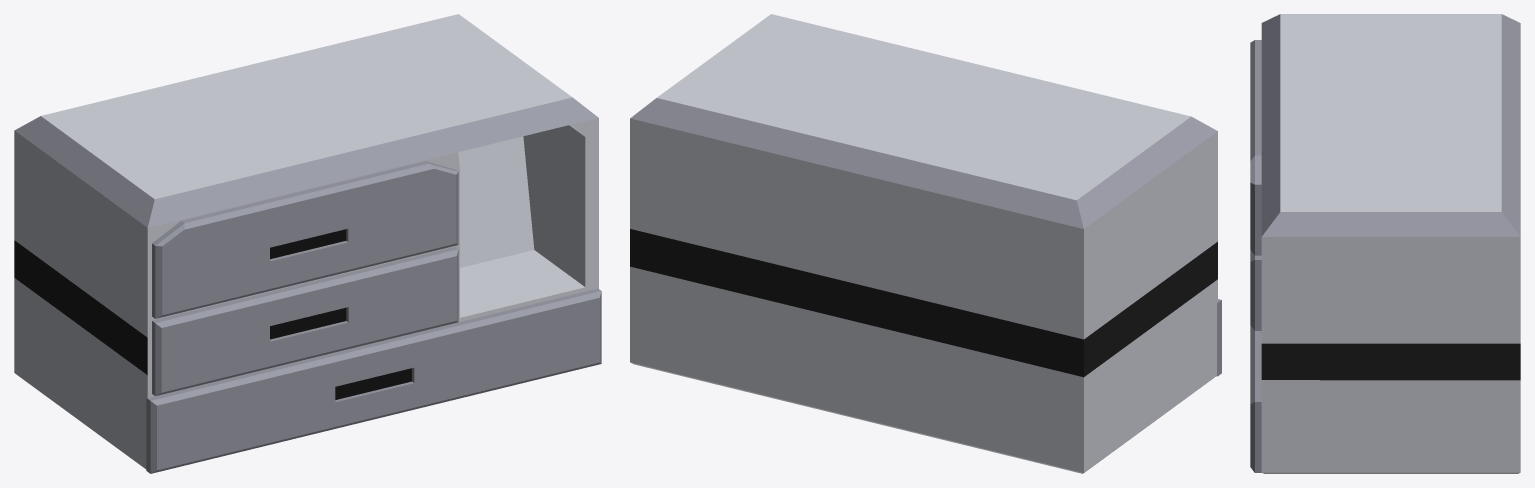
Rendered from Shelf_B.fbx.
The picture shows the model from 3 angles, left to right: view 1: azimuth 30°, elevation 25°; view 2: azimuth 150°, elevation 25°; view 3: azimuth 270°, elevation 25°; orthographic projection. The views are drawn at different scales.
Parts seen in each view (by area): view 1: Cube.001; view 2: Cube.001; view 3: Cube.001.
Boxes of the visible parts, <box> form: Cube.001: <box>14,14,601,473</box>; Cube.001: <box>630,14,1221,473</box>; Cube.001: <box>1250,14,1520,473</box>.
Bounding box in the file's own units: 585 × 325 × 312.
